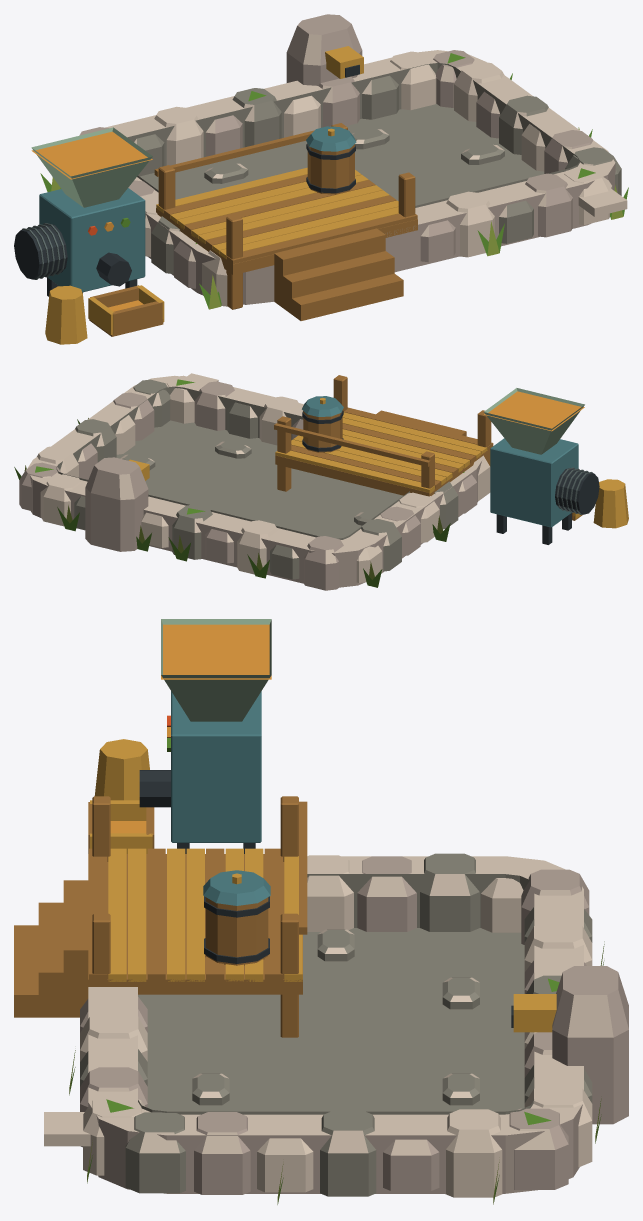
File: FishPond_A_Lv1_High.fbx
3 views of the same model, one above another, from view 1: azimuth 30°, elevation 25°; view 2: azimuth 150°, elevation 25°; view 3: azimuth 270°, elevation 25° (orthographic). The views are drawn at different scales.
Visible parts, largest first — view 1: FishPond_A_Lv1_High; view 2: FishPond_A_Lv1_High; view 3: FishPond_A_Lv1_High.
Part boxes in pixels (x1,y1,x2,y2): FishPond_A_Lv1_High: [14, 14, 628, 344]; FishPond_A_Lv1_High: [14, 373, 628, 590]; FishPond_A_Lv1_High: [14, 619, 628, 1204].
Size of the model in its own units: 11.74 by 2.79 by 7.45.
